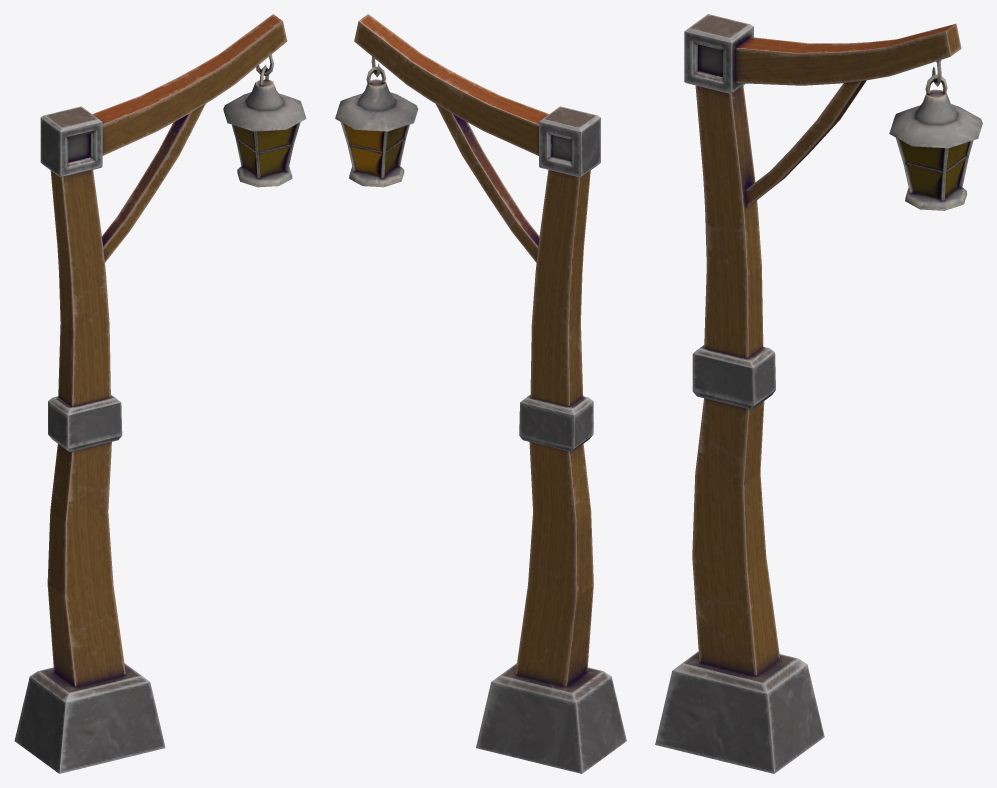
The model's file is lamppost.fbx.
3 views of the same model, side by side, from view 1: azimuth 30°, elevation 25°; view 2: azimuth 150°, elevation 25°; view 3: azimuth 330°, elevation 25° (orthographic). The views are drawn at different scales.
Visible parts, largest first — view 1: Light.001, Light, Light.002; view 2: Light.001, Light, Light.002; view 3: Light.001, Light, Light.002.
Boxes of the visible parts, left/top/right/bottom form: Light.001: left=14, top=14, right=287, bottom=773; Light: left=223, top=54, right=306, bottom=187; Light.002: left=234, top=124, right=296, bottom=176; Light.001: left=354, top=14, right=626, bottom=773; Light: left=335, top=56, right=418, bottom=187; Light.002: left=344, top=124, right=406, bottom=176; Light.001: left=655, top=14, right=961, bottom=773; Light: left=889, top=60, right=982, bottom=210; Light.002: left=900, top=140, right=969, bottom=198.
Bounding box in the file's own units: 1.95 × 0.5715 × 4.78.
Materials: 1 (1 with a texture image).
